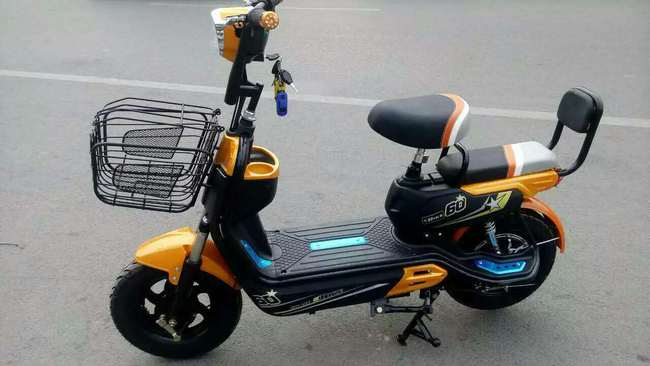MNV: (89, 1, 603, 360)
